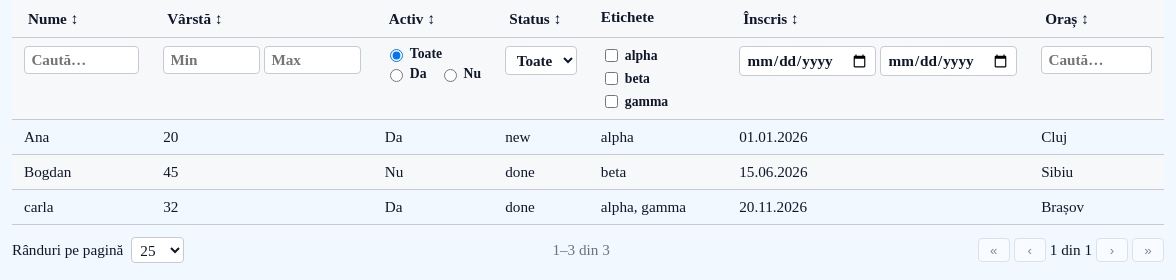
Test case: DataTable filtering › enum filter restricts to a selected option
The width and height of the screenshot is (1176, 280).
Select "done" in the dropdown named "Filtrează Status": (541, 61) x1=505 y1=46 x2=577 y2=75
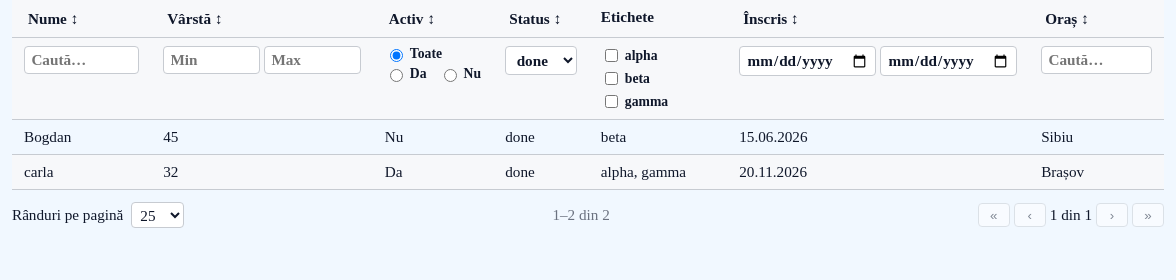
Expected: the cell "Bogdan" is shown, x1=12 y1=120 x2=151 y2=155
Expected: the cell "Ana" is gone
